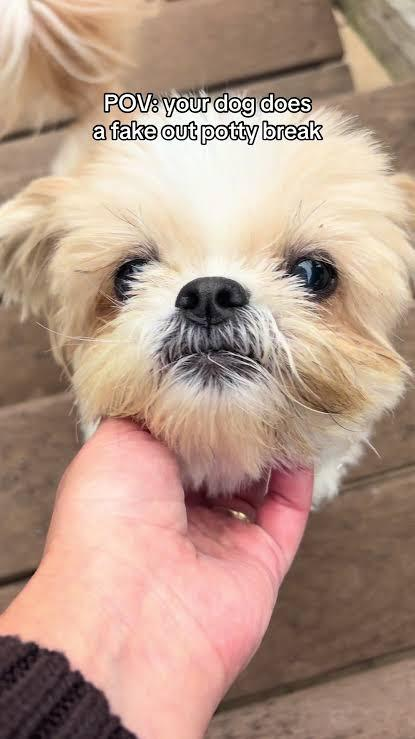adult_dog: (0, 82, 415, 510)
